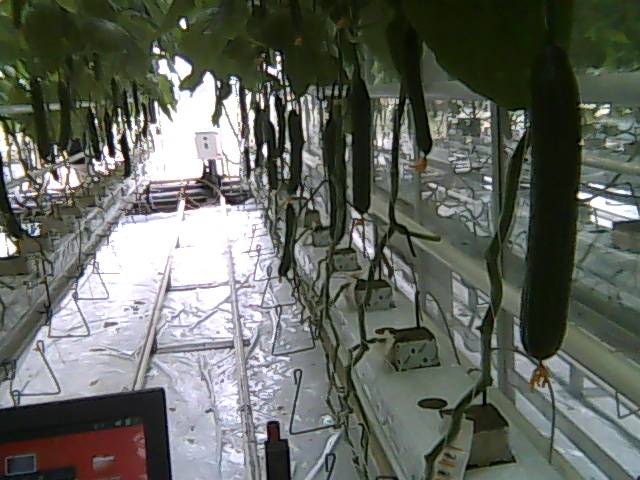concombre: (517, 40, 583, 399)
